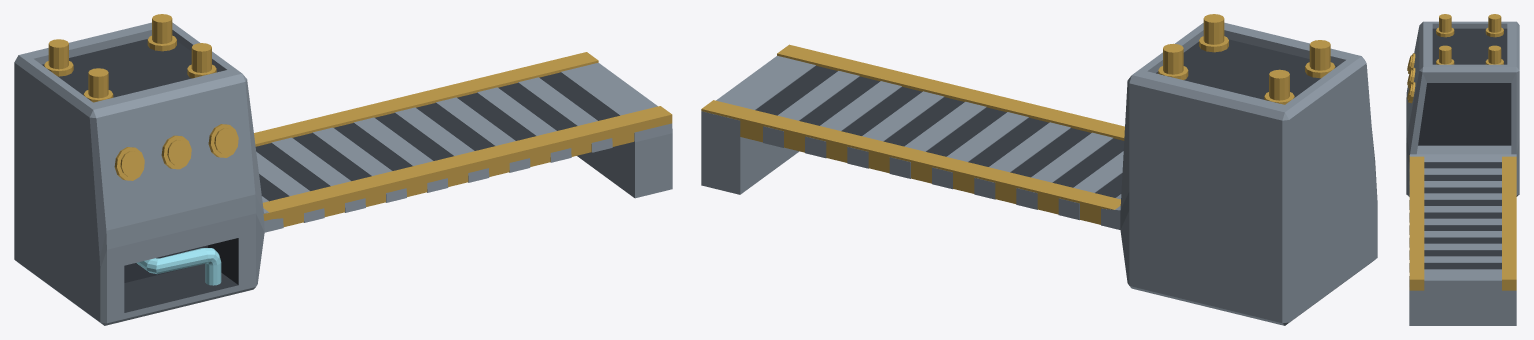
Rendered from Spawner-WGR.glb.
3 renders of one model, left to right at view 1: azimuth 30°, elevation 25°; view 2: azimuth 150°, elevation 25°; view 3: azimuth 270°, elevation 25°, orthographic. The views are drawn at different scales.
Parts seen in each view (by area): view 1: Cube; view 2: Cube; view 3: Cube.
Part boxes in pixels (box(x1,y1,x2,y2)): Cube: box(14, 14, 672, 325); Cube: box(701, 14, 1377, 325); Cube: box(1406, 14, 1519, 325).
Bounding box in the file's own units: 7.27 × 2.77 × 2.
1 material, 1 textured.
